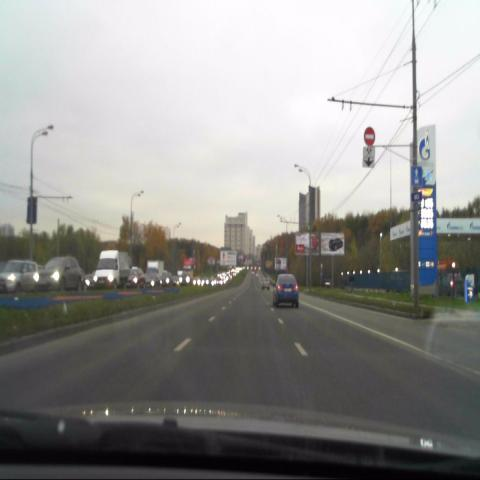5_14: (410, 167, 422, 186)
